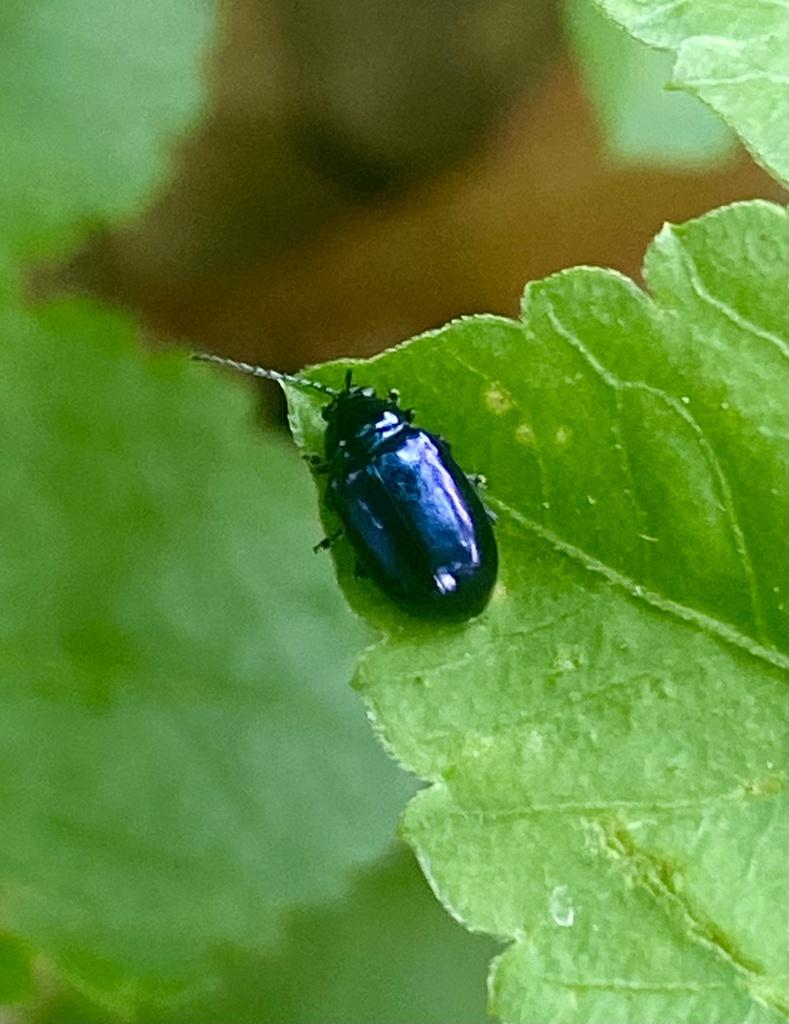flea_beetle: (242, 329, 589, 668)
